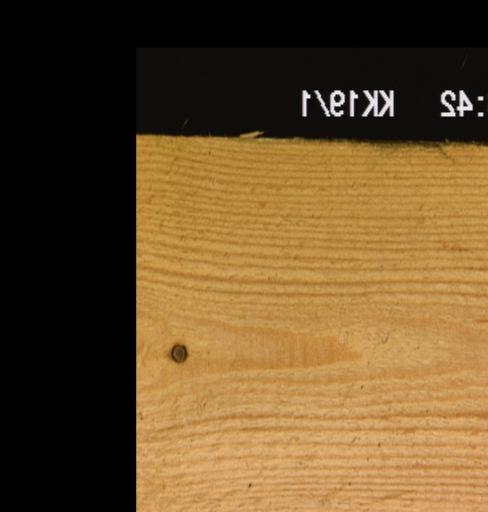dry_knot: (168, 341, 188, 364)
